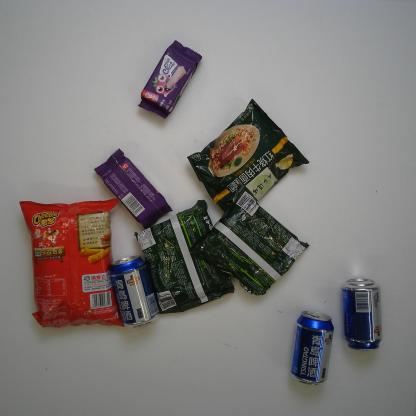Alcohol: (106, 254, 162, 333), (290, 309, 335, 388), (339, 276, 383, 352)
Dessert: (92, 147, 173, 232), (136, 40, 205, 122)
Instant Noodles: (186, 96, 311, 221), (192, 184, 313, 303), (133, 198, 235, 318)
Puffed Food: (16, 198, 129, 329)
